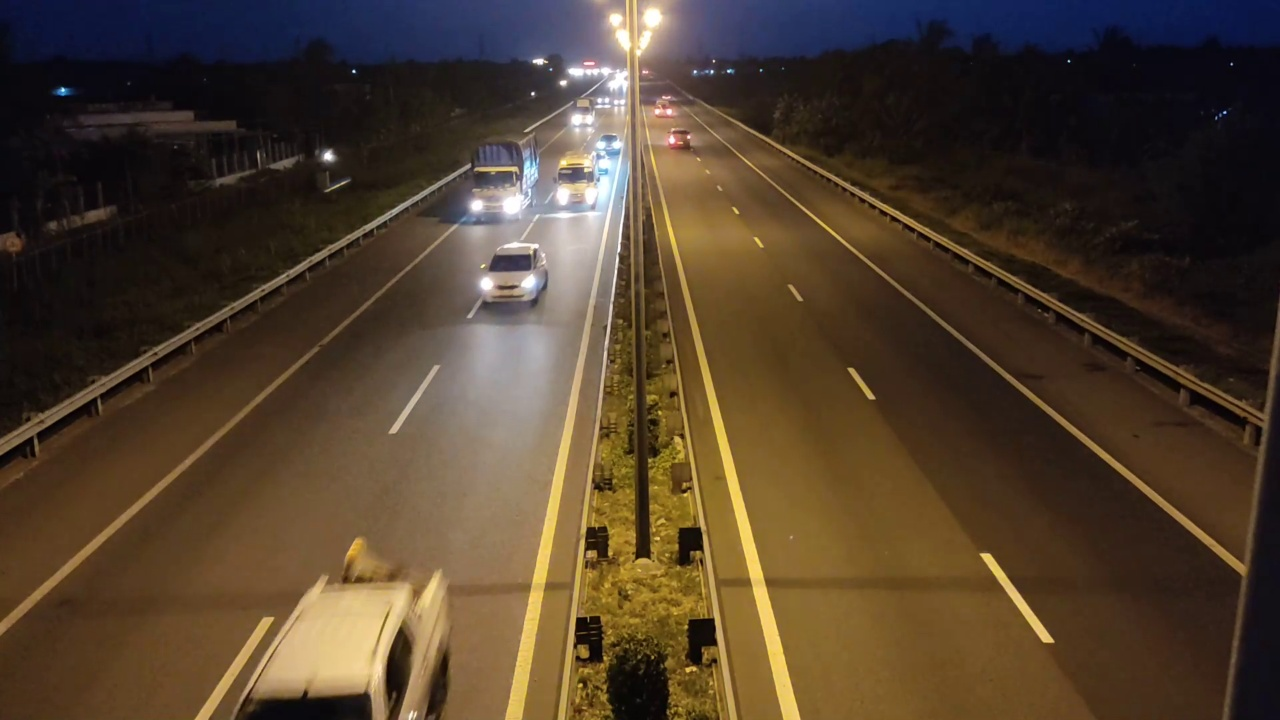car: (477, 241, 549, 307), (665, 127, 693, 149)
truck: (237, 545, 454, 719)
